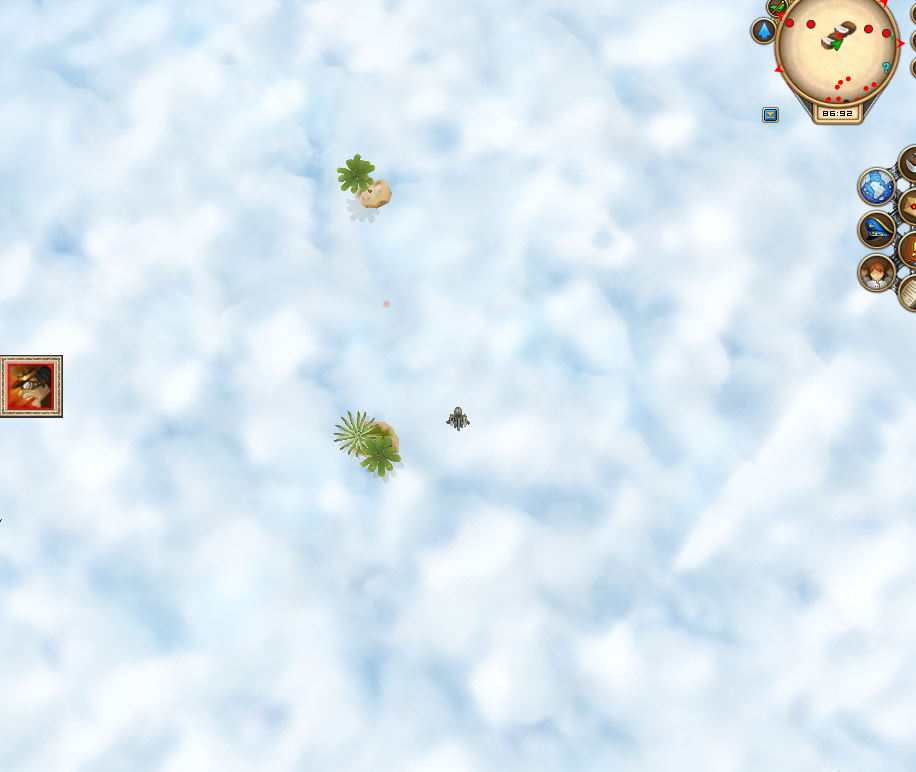palm: (329, 410, 407, 484), (334, 151, 397, 216)
